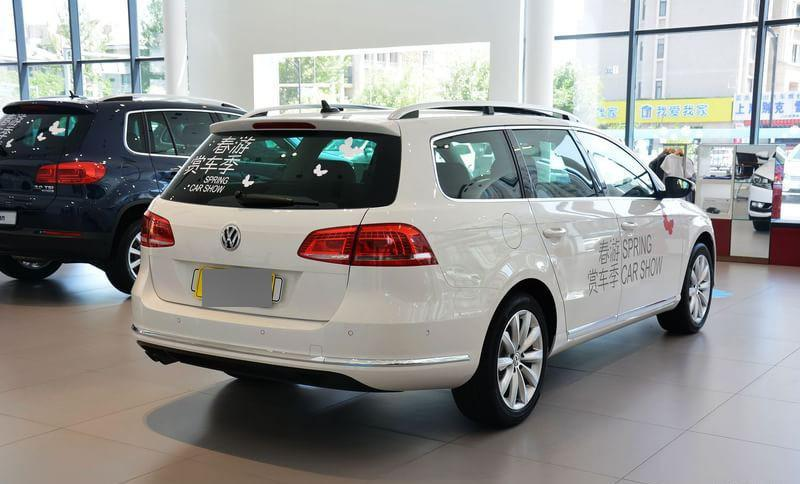Wagon: (129, 99, 718, 429)
